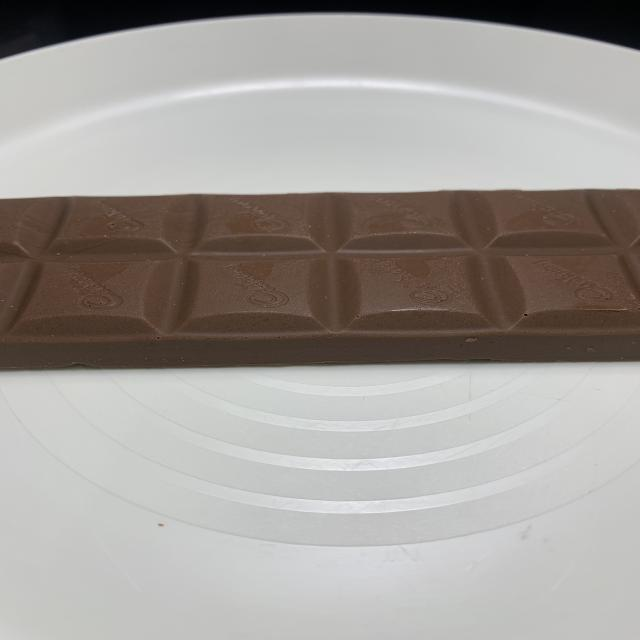Chocolate: (0, 189, 640, 373)
